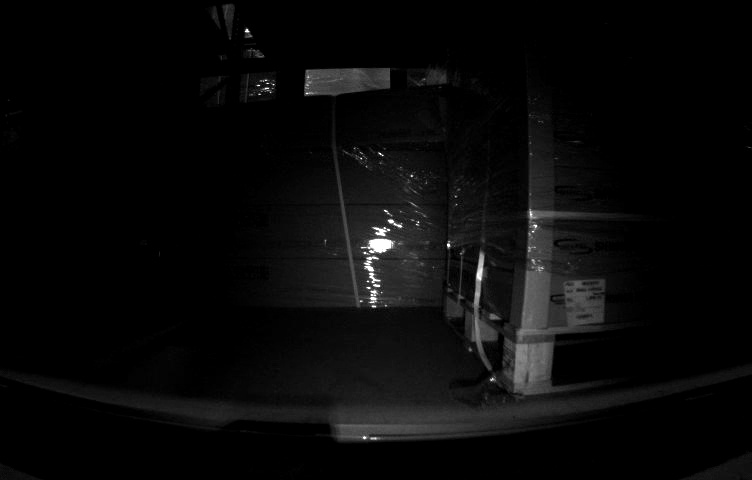True Barcode: (560, 278, 604, 323)
